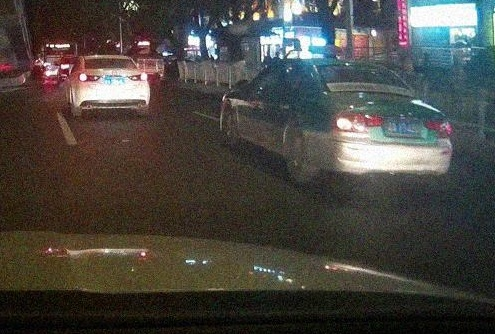L_light: (330, 112, 384, 132), (78, 73, 102, 82)
R_light: (423, 118, 452, 136), (127, 72, 148, 81)
T_light: (347, 63, 370, 67), (101, 57, 119, 60)
night-left: (309, 59, 453, 197)
night-no: (75, 54, 150, 118)
